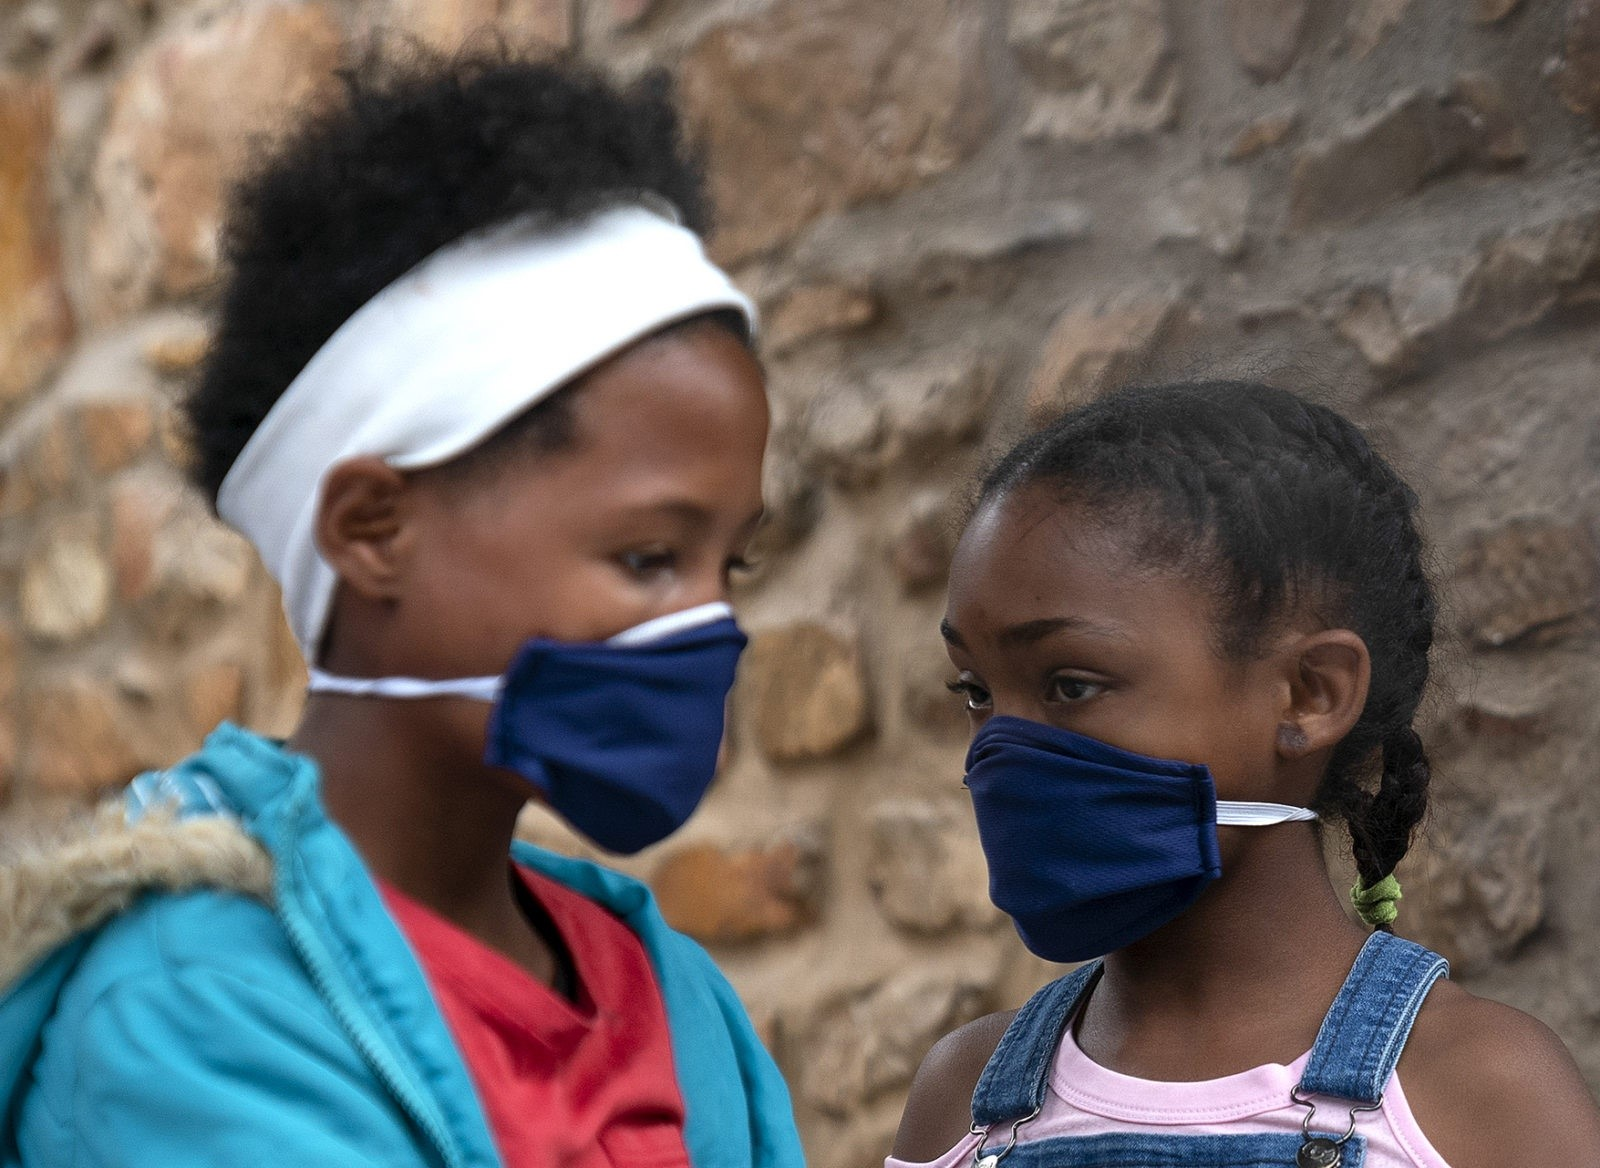face_with_mask: (307, 309, 783, 888), (928, 479, 1377, 1003)
